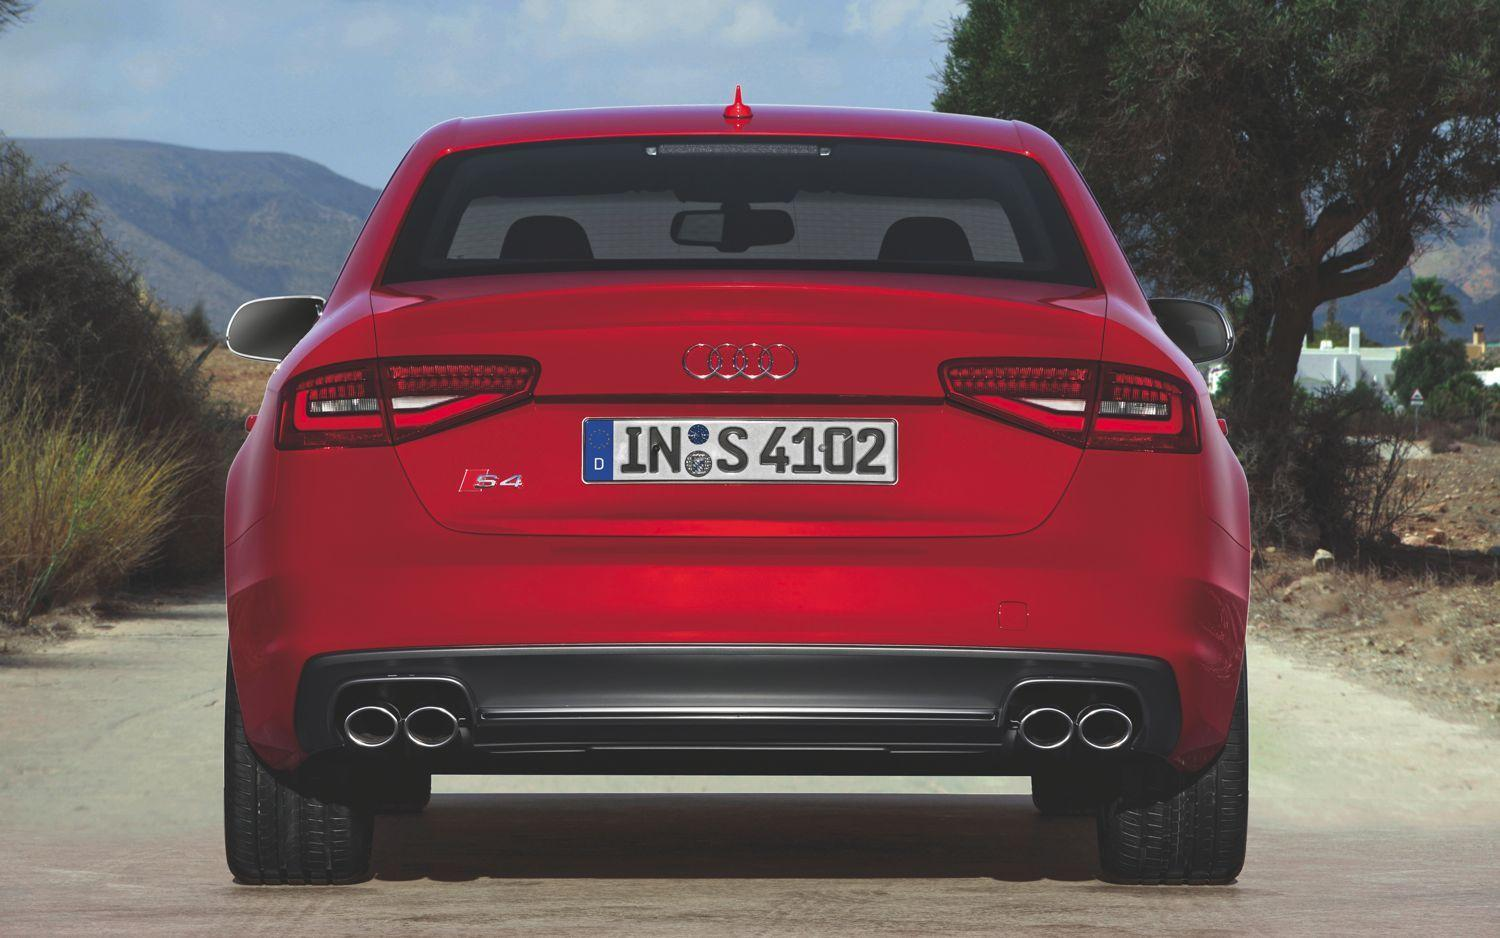Audi: (665, 326, 813, 400)
